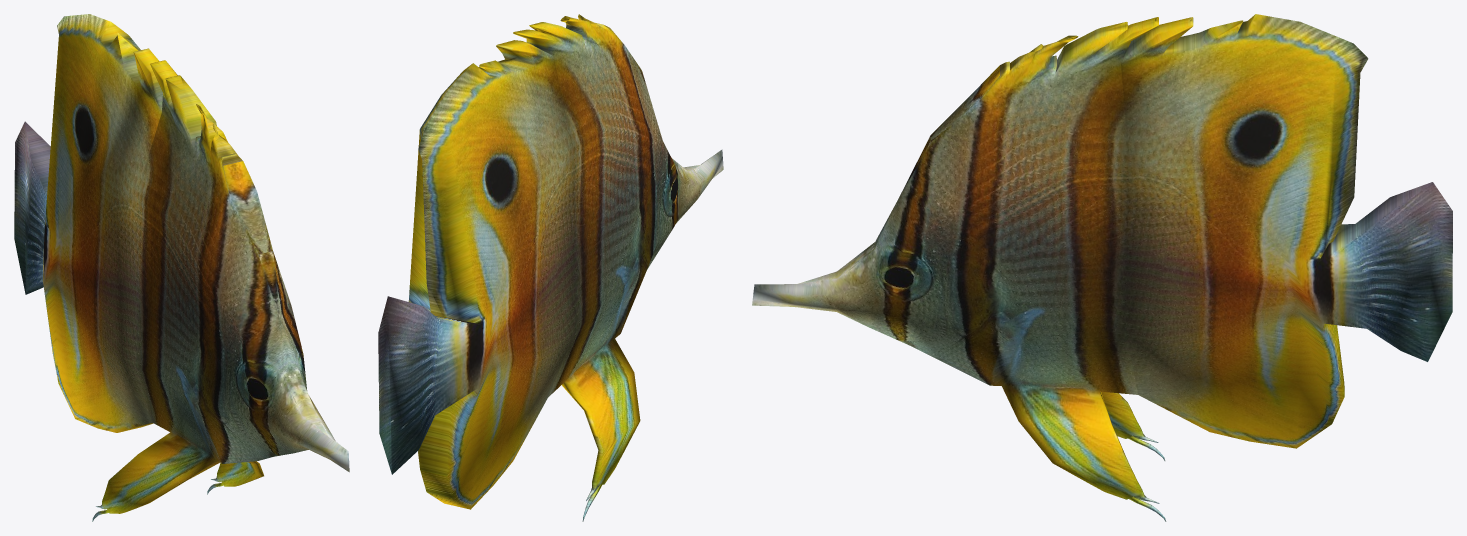
The model's file is newFish.obj.
The picture shows the model from 3 angles, left to right: view 1: azimuth 30°, elevation 25°; view 2: azimuth 150°, elevation 25°; view 3: azimuth 270°, elevation 25°; orthographic projection. The views are drawn at different scales.
Visible parts, largest first — view 1: Cube.001; view 2: Cube.001; view 3: Cube.001.
Boxes of the visible parts, x1,y1,x2,y2 form: Cube.001: (14,14,349,521); Cube.001: (378,14,723,521); Cube.001: (752,14,1452,521).
Bounding box in the file's own units: 0.0623 × 0.2253 × 0.298.
Materials: 1 (1 with a texture image).
